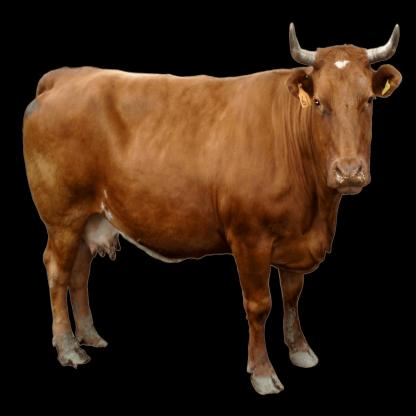cow: (23, 47, 398, 394)
